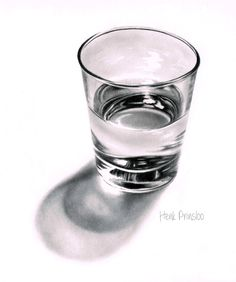glass of water: (86, 37, 185, 191)
